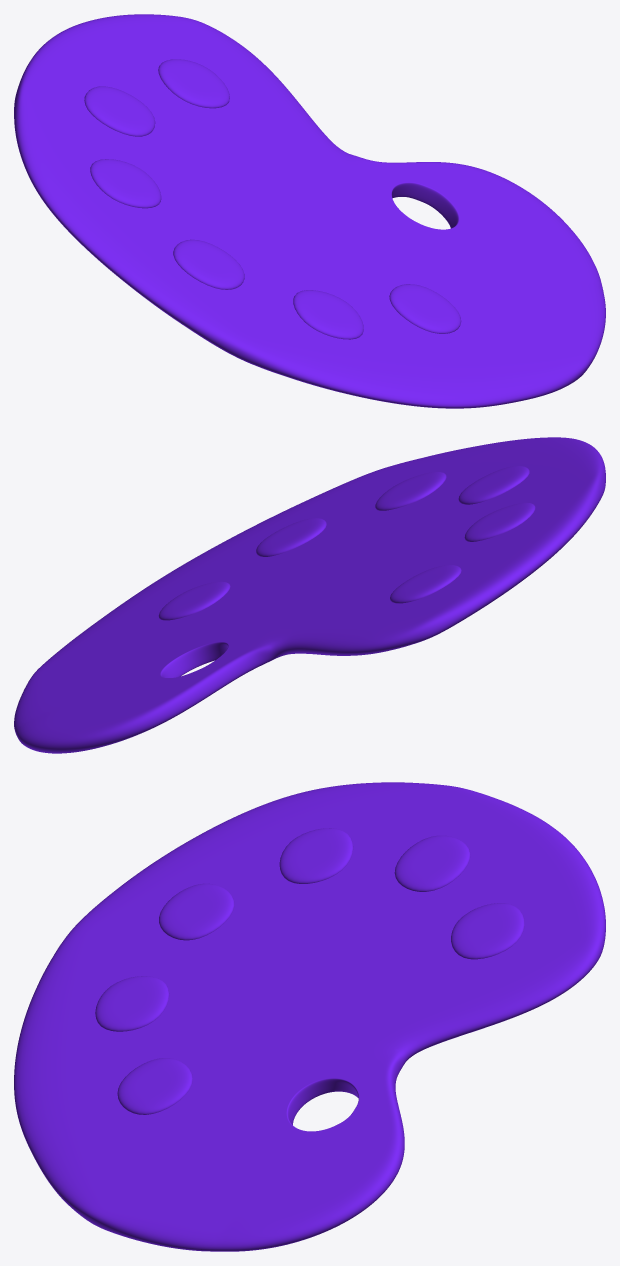
Rendered from palette.glb.
3 views of the same model, one above another, from view 1: azimuth 30°, elevation 25°; view 2: azimuth 210°, elevation 25°; view 3: azimuth 270°, elevation 25° (orthographic).
Visible parts, largest first — view 1: Plane, Plane.001; view 2: Plane, Plane.001; view 3: Plane, Plane.001.
Boxes of the visible parts, <box> form: Plane: <box>14,14,605,408</box>; Plane.001: <box>84,59,461,339</box>; Plane: <box>14,437,605,753</box>; Plane.001: <box>158,466,535,620</box>; Plane: <box>14,782,605,1251</box>; Plane.001: <box>95,828,524,1114</box>.
Bounding box in the file's own units: 1.66 × 0.7378 × 1.57.
